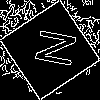N: (25, 25, 77, 69)
